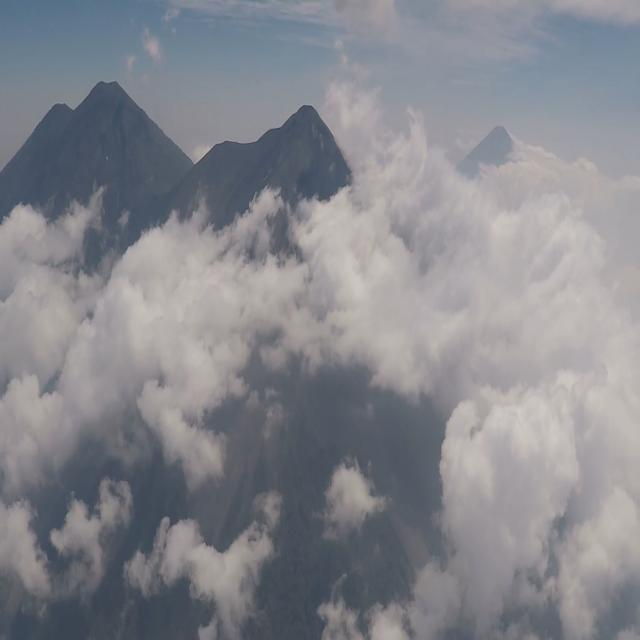Summit: (261, 100, 331, 142)
